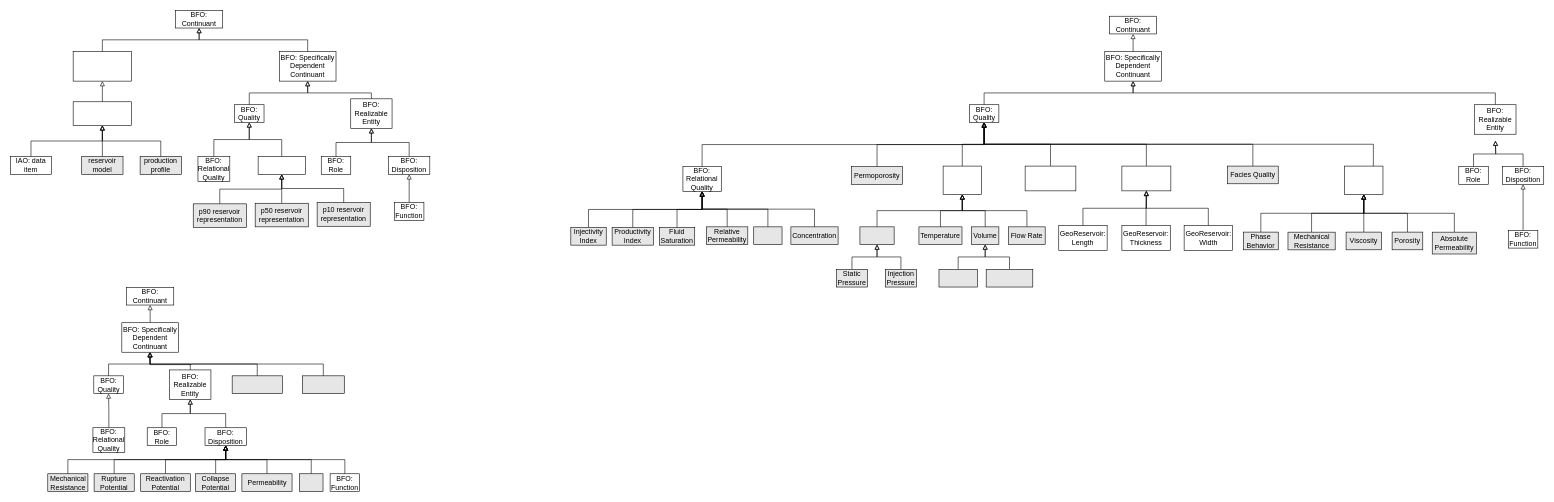
Image size: 1554x502. Some labels were removed from this diagram. Here are the shapes that lost their labels. From the top down, the centre of each, then its label:
At pixel 102 66: "BFO: Generically Dependent Continuant".
At pixel 102 113: "IAO: Information Content Entity".
At pixel 281 165: "IAO: representation".
At pixel 962 179: "PSO: Physical Property".
At pixel 1050 178: "GeoReservoir: Geometry".
At pixel 1146 178: "GeoReservoir: Dimension".
At pixel 1363 179: "PSO: Material Property".
At pixel 767 235: "Fluid Contact".
At pixel 876 235: "Pressure".
At pixel 957 278: "Volume in place".
At pixel 1009 278: "Recoverable Volume".
At pixel 257 384: "Unpredictability".
At pixel 323 384: "Inadequacy".
At pixel 311 482: "Seal".
